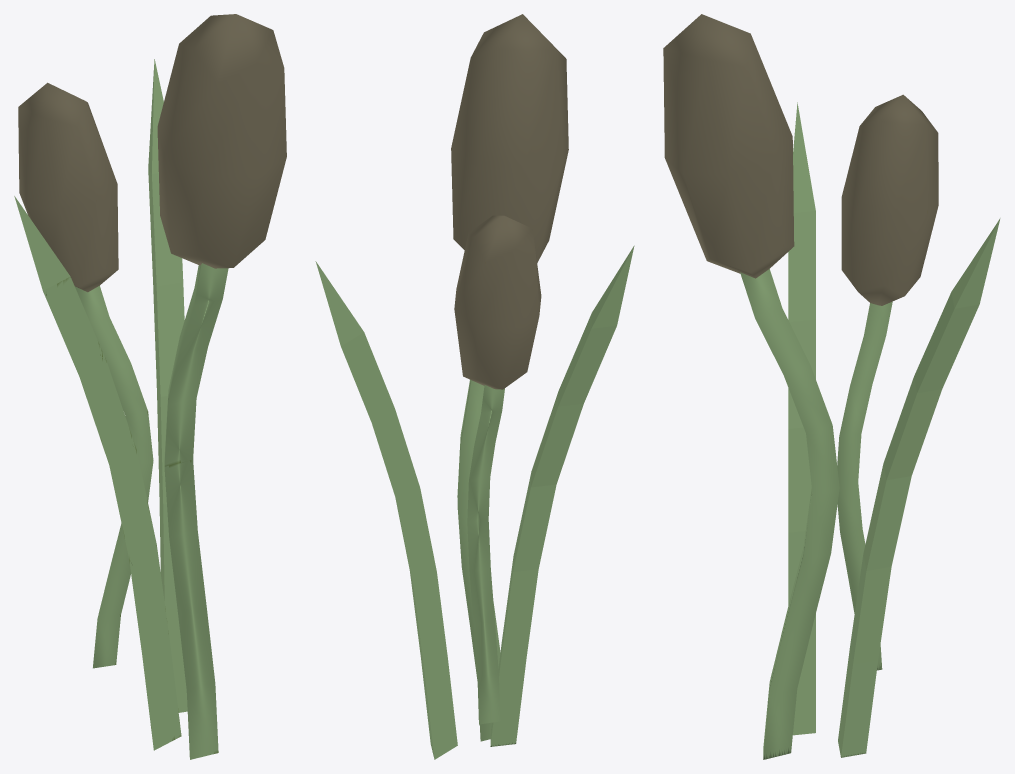
File: cattails.glb
3 renders of one model, left to right at view 1: azimuth 30°, elevation 25°; view 2: azimuth 150°, elevation 25°; view 3: azimuth 270°, elevation 25°, orthographic. The views are drawn at different scales.
Visible parts, largest first — view 1: cattails; view 2: cattails; view 3: cattails.
Part boxes in pixels (<box>): cattails: <box>14,14,286,759</box>; cattails: <box>315,14,634,759</box>; cattails: <box>663,14,1000,759</box>.
Bounding box in the file's own units: 1.34 × 3.98 × 1.65.
1 material, 1 textured.
